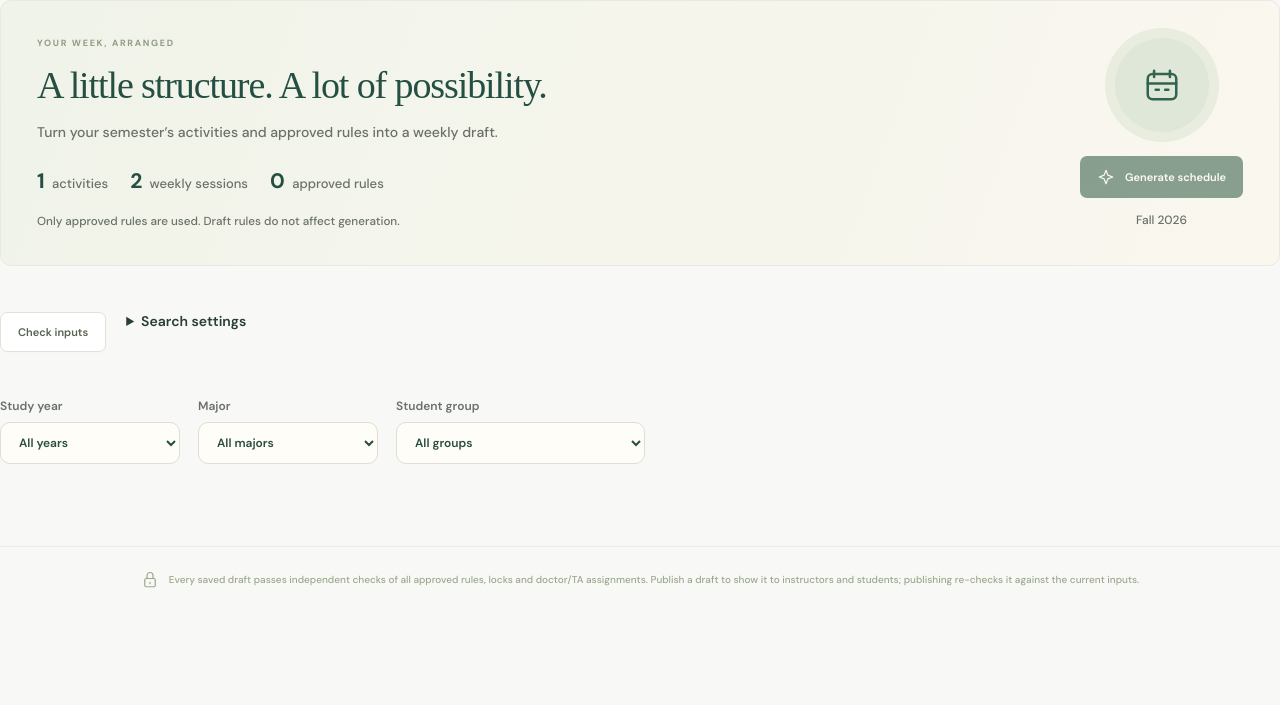
Test: the year, major and group filters are there before any timetable exists
The image size is (1280, 705).
Select "Year 2" in the dropdown labelled "Study year" at {"x": 90, "y": 444}, box [0,422,180,464]
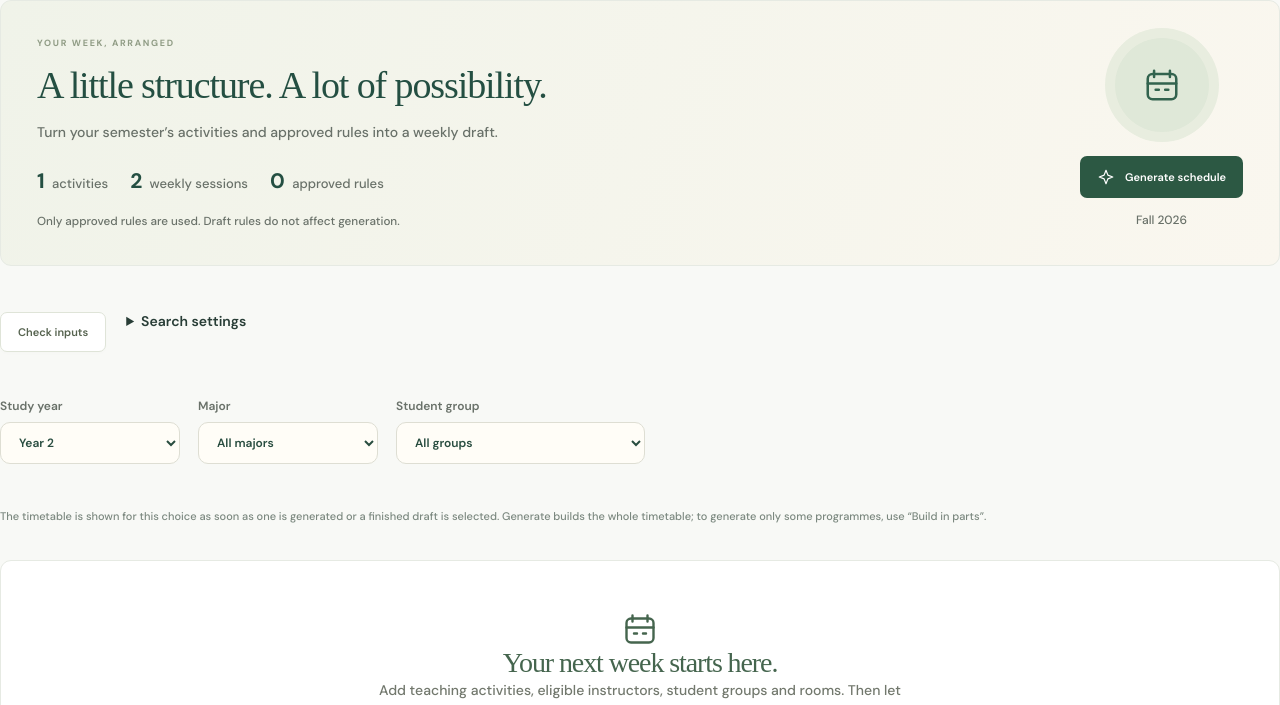
Check: the text "Generate builds the whole timetable" is shown, box [0,510,986,524]
